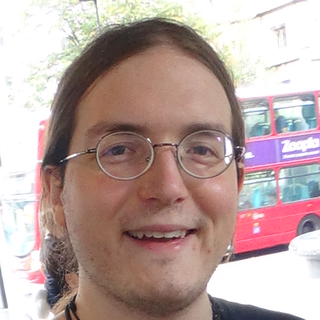eye: (93, 134, 138, 164), (179, 138, 225, 164)
